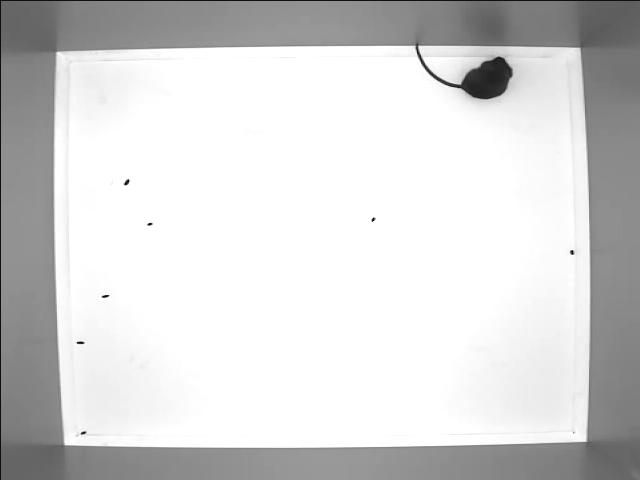Tikus: (416, 46, 510, 100)
